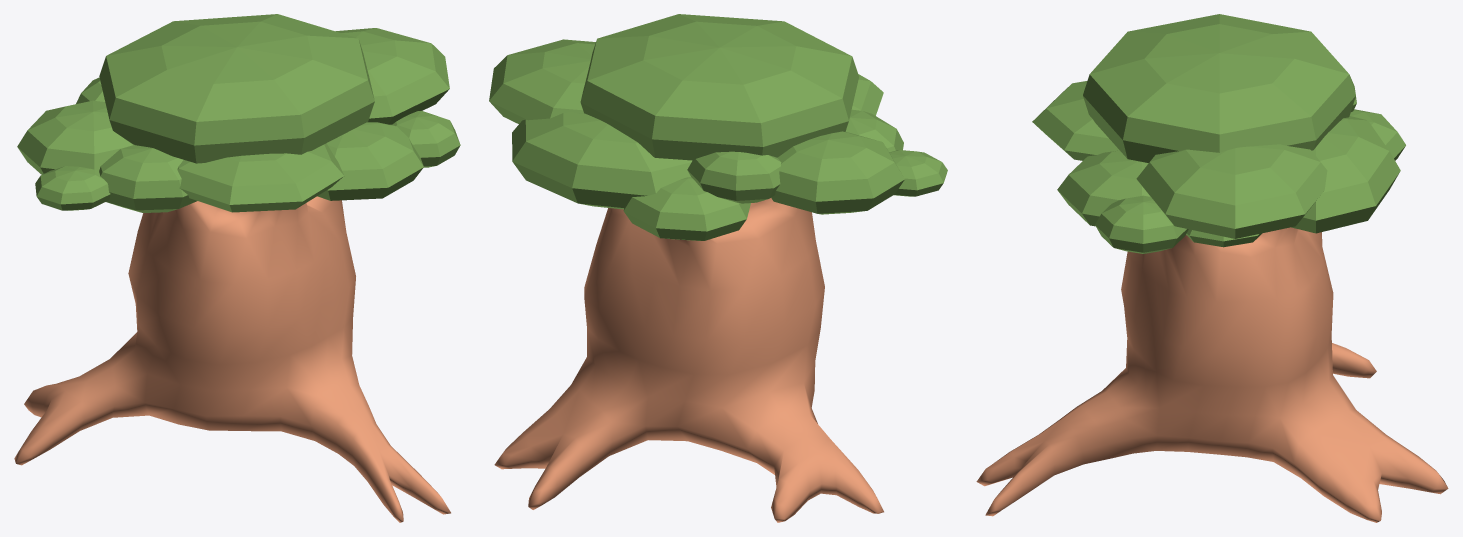
Rendered from tree2.fbx.
3 views of the same model, side by side, from view 1: azimuth 30°, elevation 25°; view 2: azimuth 150°, elevation 25°; view 3: azimuth 270°, elevation 25° (orthographic).
Parts seen in each view (by area): view 1: tree2_leaves, tree2_trunk; view 2: tree2_leaves, tree2_trunk; view 3: tree2_leaves, tree2_trunk.
Part boxes in pixels (x1,y1,x2,y2): tree2_leaves: (17,14,460,212); tree2_trunk: (14,196,450,522); tree2_leaves: (489,14,947,240); tree2_trunk: (494,198,883,522); tree2_leaves: (1032,14,1405,253); tree2_trunk: (976,227,1448,522).
Size of the model in its own units: 15.2 by 13.93 by 14.32.
